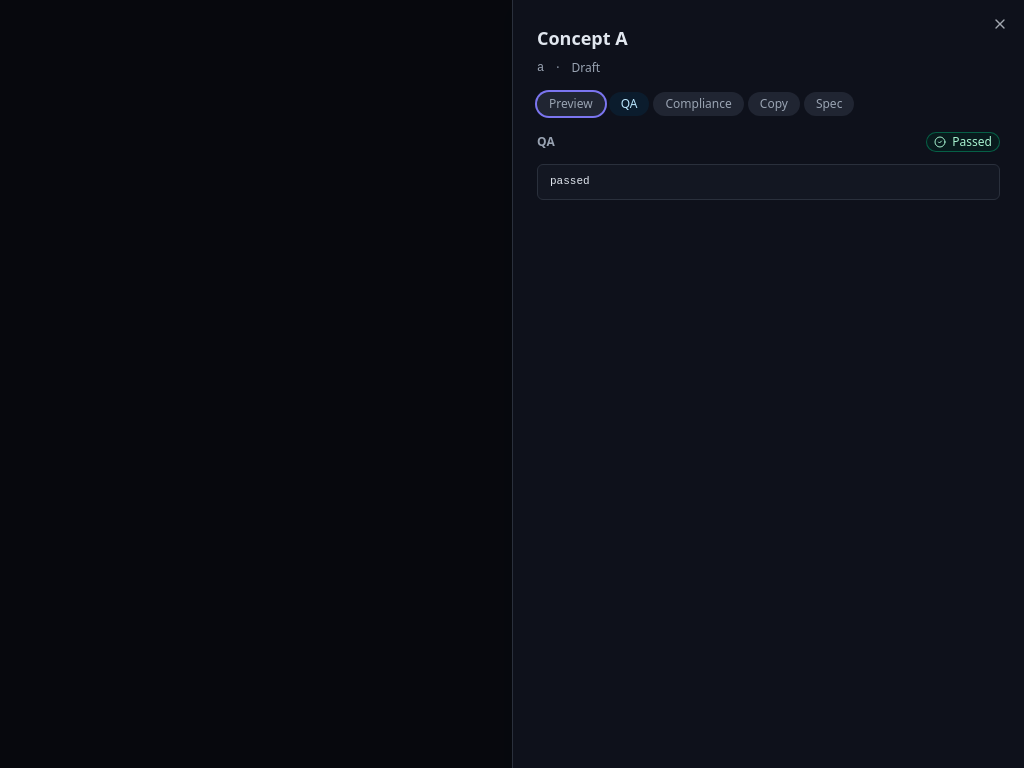
ReviewDrawer › shows the locked message for a locked stage
The width and height of the screenshot is (1024, 768).
// copy is locked (compliance failed). Open the copy tab.
What coordinates should you click on to do the following:
click the tab with test id "drawer-tab-copy"
I would click on:
 (774, 104)
Its box is 748,92 -> 800,116.
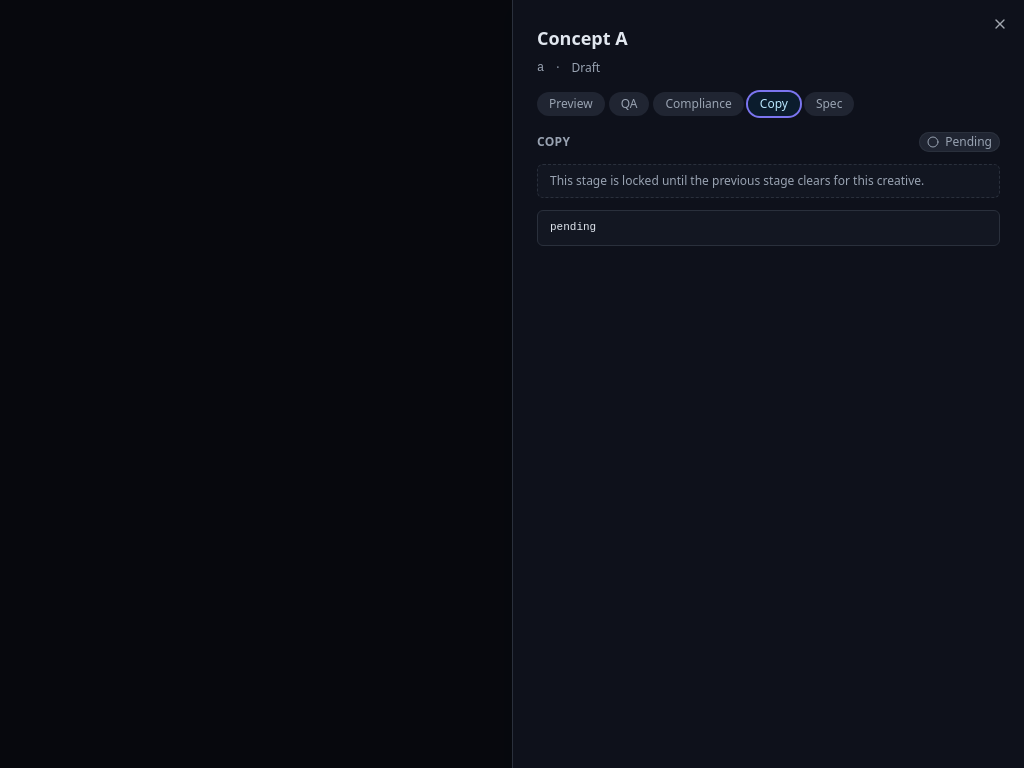
Expected: the text with test id "drawer-locked-copy" is shown, 537,164 -> 1000,198
